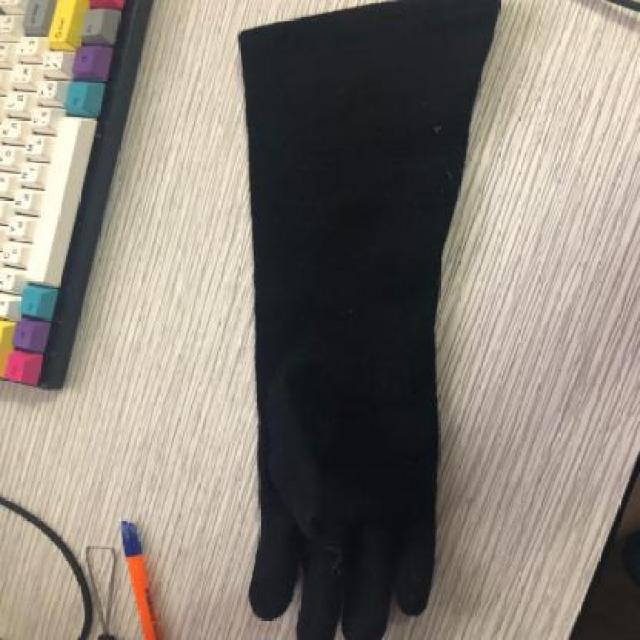Gloves: (234, 4, 497, 634)
